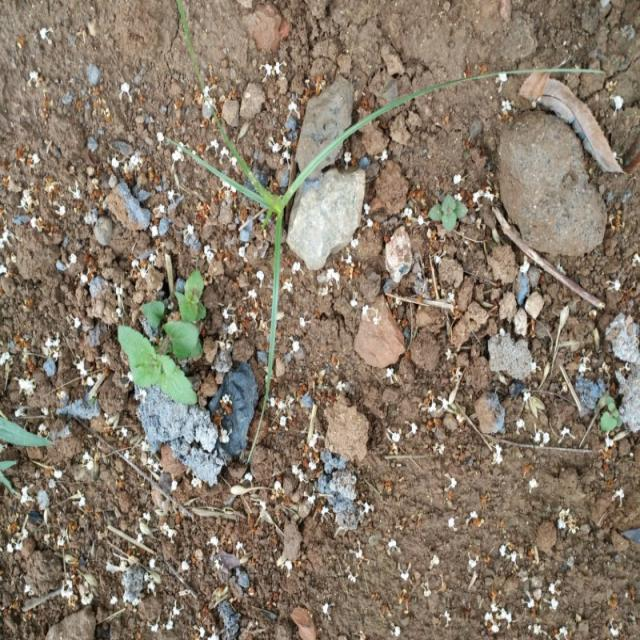sedge: (192, 48, 434, 385)
